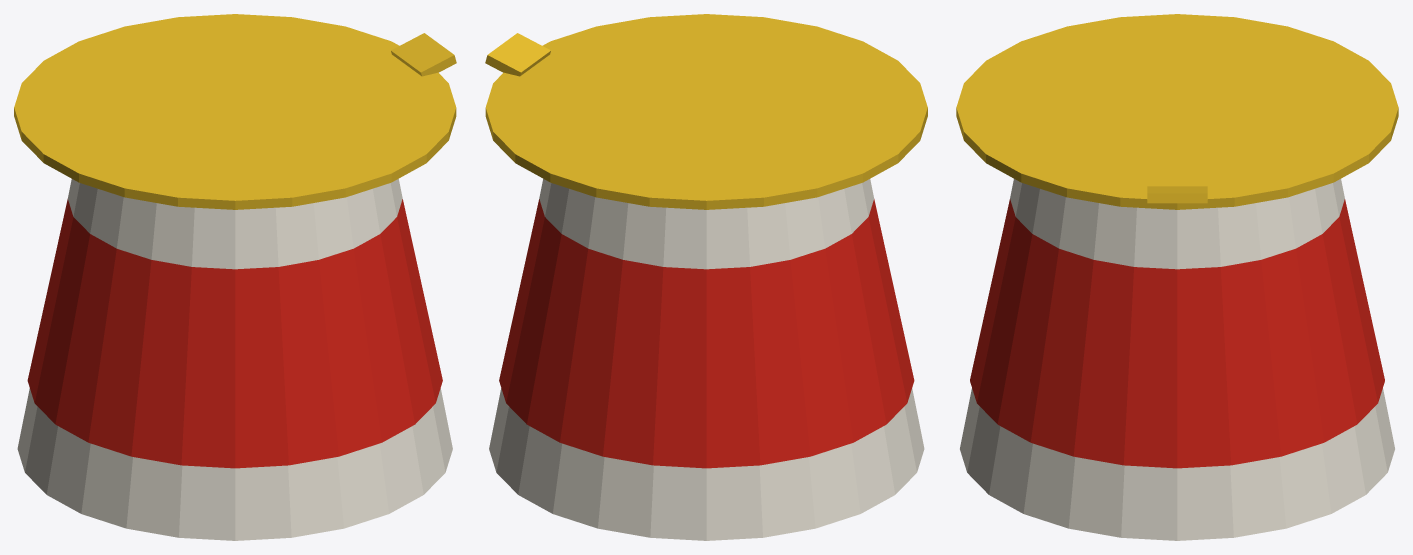
File: Grocery_Instant_Ramen.obj
3 views of the same model, side by side, from view 1: azimuth 30°, elevation 25°; view 2: azimuth 150°, elevation 25°; view 3: azimuth 270°, elevation 25° (orthographic).
Visible parts, largest first — view 1: Ramen_Sleeve_Band, Ramen_Foil_Lid, Ramen_Cup_Body, Ramen_Lid_Tab; view 2: Ramen_Sleeve_Band, Ramen_Foil_Lid, Ramen_Cup_Body, Ramen_Lid_Tab; view 3: Ramen_Sleeve_Band, Ramen_Foil_Lid, Ramen_Cup_Body, Ramen_Lid_Tab.
Part boxes in pixels (left/top/right/bottom): Ramen_Sleeve_Band: left=27, top=199, right=442, bottom=468; Ramen_Foil_Lid: left=14, top=14, right=456, bottom=209; Ramen_Cup_Body: left=17, top=179, right=452, bottom=540; Ramen_Lid_Tab: left=391, top=33, right=456, bottom=76; Ramen_Sleeve_Band: left=499, top=199, right=914, bottom=468; Ramen_Foil_Lid: left=485, top=14, right=927, bottom=209; Ramen_Cup_Body: left=489, top=179, right=924, bottom=540; Ramen_Lid_Tab: left=485, top=33, right=550, bottom=76; Ramen_Sleeve_Band: left=970, top=199, right=1384, bottom=468; Ramen_Foil_Lid: left=956, top=14, right=1398, bottom=209; Ramen_Cup_Body: left=960, top=179, right=1394, bottom=540; Ramen_Lid_Tab: left=1147, top=186, right=1207, bottom=203.
Size of the model in its own units: 0.1372 by 0.117 by 0.132.
